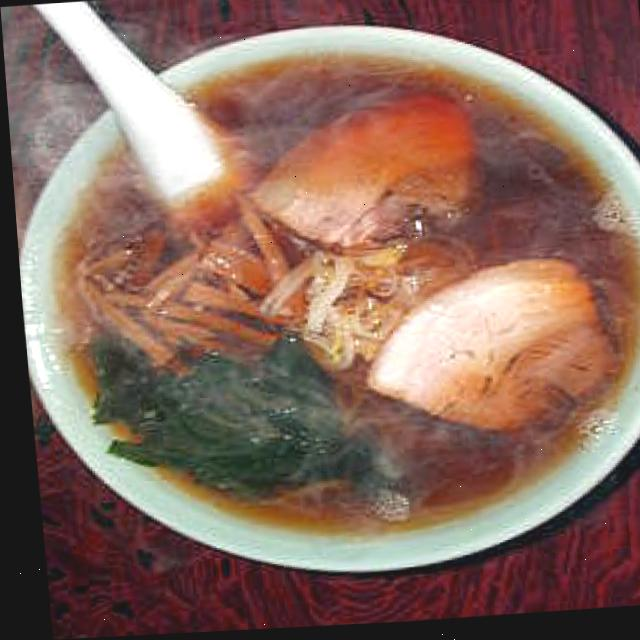面条主食: (2, 7, 640, 591)
